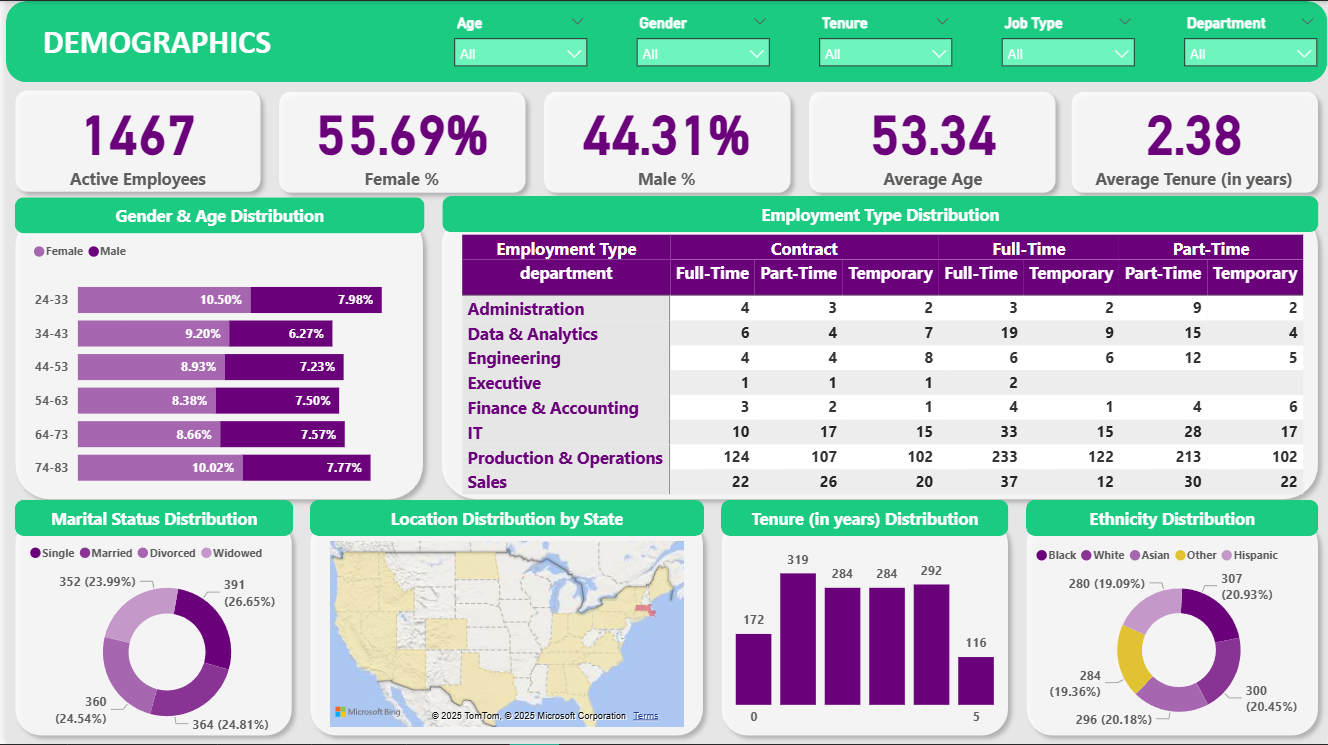

The dashboard page shown, as its layout file describes it:
{"tool":"powerbi","page":{"name":"Demographics","canvas":[1280,720],"ordinal":1},"visuals":[{"type":"shape","box":[412.8,88.4,866.7,306.3],"z":0},{"type":"shape","box":[285.7,394.6,398.3,325.6],"z":1000},{"type":"shape","box":[0,389.8,285.7,330.5],"z":2000},{"type":"shape","box":[979.3,394.6,300.2,325.6],"z":3000},{"type":"shape","box":[0,88.4,412.8,306.3],"z":4000},{"type":"barChart","fields":{"Category":["silver Employees.age_group"],"Y":["CountNonNull(silver Employees.employee_id)"],"Series":["silver Employees.gender"]},"box":[20.6,113.8,371.6,279.6],"z":5000},{"type":"donutChart","fields":{"Category":["silver Employees.race"],"Y":["CountNonNull(silver Employees.employee_id)"]},"box":[992.6,467.3,286.9,244.5],"z":6000},{"type":"donutChart","fields":{"Category":["silver Employees.marital_status"],"Y":["Count(silver Employees.employee_id)"]},"box":[18.2,421.3,276,295.4],"z":7000},{"type":"pivotTable","fields":{"Rows":["silver Employees.department"],"Columns":["silver Employees.employment_type","silver Employees.employee_classification_type"],"Values":["CountNonNull(silver Employees.employee_id)"]},"box":[433.4,118.6,826.8,271.2],"z":8000},{"type":"filledMap","fields":{"Category":["silver Employees.state"]},"box":[308.7,467.3,353.5,234.8],"z":9000},{"type":"shape","box":[0,0,1279.5,78.7],"z":10000},{"type":"shape","box":[683.9,394.6,295.4,325.6],"z":11000},{"type":"clusteredColumnChart","fields":{"Category":["silver Employees.Tenure (in years)"],"Y":["Count(silver Employees.employee_id)"]},"box":[698.5,458.8,309.9,253],"z":12000},{"type":"shape","box":[8.5,79.9,397,35.1],"z":13000},{"type":"shape","box":[422.5,79.9,848.6,35.1],"z":14000},{"type":"shape","box":[692.4,386,278.4,35.1],"z":15000},{"type":"shape","box":[987.8,386,283.3,35.1],"z":16000},{"type":"shape","box":[8.5,386.1,269.9,35.1],"z":17000},{"type":"shape","box":[294.2,386,382,35.1],"z":18000},{"type":"slicer","fields":{"Values":["silver Employees.age_group"]},"box":[423.2,7.3,148.9,65.4],"z":19000},{"type":"slicer","fields":{"Values":["silver Employees.gender"]},"box":[600,7.3,148.9,65.4],"z":20000},{"type":"slicer","fields":{"Values":["silver Employees.Tenure (in years)"]},"box":[776.9,7.3,148.9,65.4],"z":21000},{"type":"slicer","fields":{"Values":["silver Employees.employment_type"]},"box":[953.8,7.3,148.9,65.4],"z":22000},{"type":"slicer","fields":{"Values":["silver Employees.department"]},"box":[1130.6,7.3,148.9,65.4],"z":23000}]}

Visuals, with their boxes in screenshot pixels (x1, y1, x2, y2), scaled from the page's 1280x720 canvas onto the 1328x745 screenshot:
shape: Rect(428, 91, 1327, 408)
shape: Rect(296, 408, 710, 744)
shape: Rect(0, 403, 296, 744)
shape: Rect(1016, 408, 1327, 744)
shape: Rect(0, 91, 428, 408)
barChart - silver Employees.age_group x CountNonNull(silver Employees.employee_id): Rect(21, 118, 407, 407)
donutChart - silver Employees.race x CountNonNull(silver Employees.employee_id): Rect(1030, 484, 1327, 737)
donutChart - silver Employees.marital_status x Count(silver Employees.employee_id): Rect(19, 436, 305, 742)
pivotTable - silver Employees.department x silver Employees.employment_type: Rect(450, 123, 1307, 403)
filledMap - silver Employees.state: Rect(320, 484, 687, 726)
shape: Rect(0, 0, 1327, 81)
shape: Rect(710, 408, 1016, 744)
clusteredColumnChart - silver Employees.Tenure (in years) x Count(silver Employees.employee_id): Rect(725, 475, 1046, 737)
shape: Rect(9, 83, 421, 119)
shape: Rect(438, 83, 1319, 119)
shape: Rect(718, 399, 1007, 436)
shape: Rect(1025, 399, 1319, 436)
shape: Rect(9, 400, 289, 436)
shape: Rect(305, 399, 702, 436)
slicer - silver Employees.age_group: Rect(439, 8, 594, 75)
slicer - silver Employees.gender: Rect(622, 8, 777, 75)
slicer - silver Employees.Tenure (in years): Rect(806, 8, 961, 75)
slicer - silver Employees.employment_type: Rect(990, 8, 1144, 75)
slicer - silver Employees.department: Rect(1173, 8, 1327, 75)
